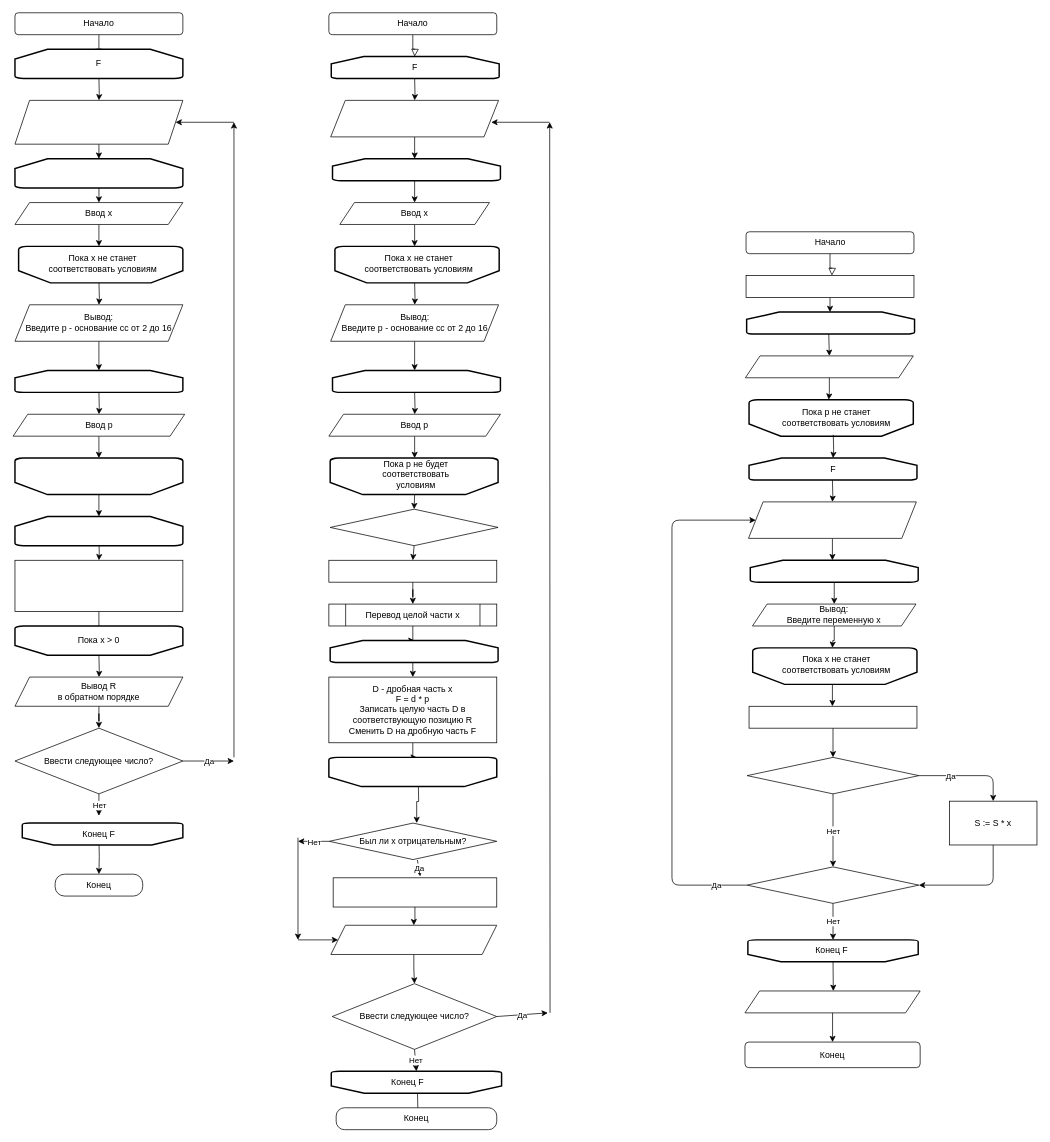
Image size: 1050x1142. Some labels were removed from this diagram. Each missing label, with the centre of its shape:
"i := i + 1" goes at point (832, 717).
"i < N?" goes at point (832, 884).
"S := 1 i := 0" goes at point (829, 286).
"x - отрицательное?" goes at point (413, 527).
"x / p = D (R). Запись остатка в R в соответствующий позицию x = D" goes at point (98, 585).
"x кратно p?" goes at point (832, 775).
"Вывод S" goes at point (832, 1001).
"Вывод целой части числа x и R через запятую" goes at point (413, 939).
"Вывод: Введите N - число переменных" goes at point (832, 519).
"Вывод: Введите x - дробное число в 10 сс" goes at point (414, 118).
"Вывод: Введите x - целое положительное число в 10 сс" goes at point (98, 122).
"Вывод: Введите переменную p" goes at point (829, 366).
"Запомнить, что x - отрицательное x = -x" goes at point (412, 571).
"Переписать знак перед целой частью x" goes at point (414, 892).
"Пока D > 0" goes at point (412, 771).
"Пока p>16 или p<2" goes at point (98, 476).
